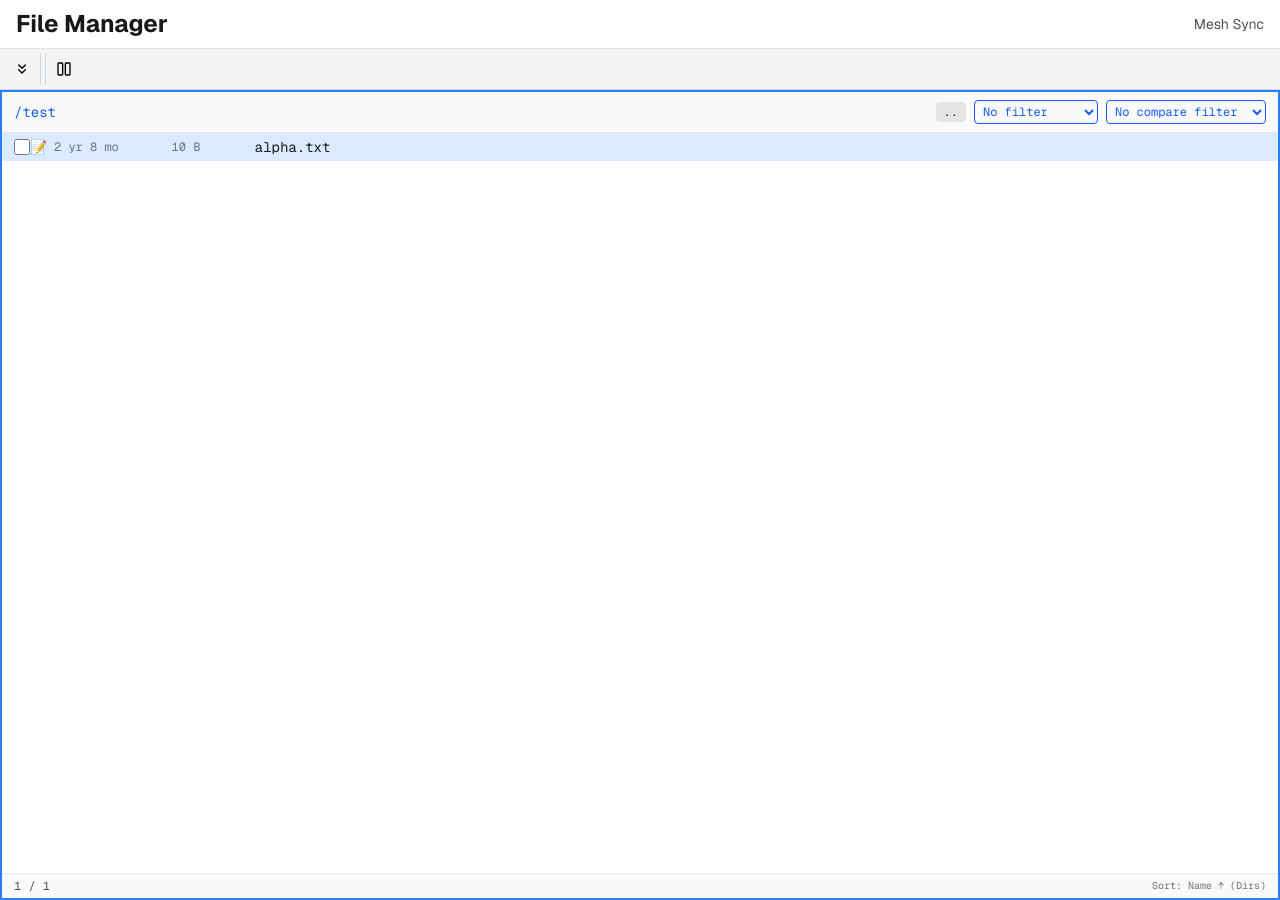
Test case: WorkspaceView file columns [IMPL-WORKSPACE_VIEW] [IMPL-FILE_COLUMN_CONFIG] › view.columns opens dialog and apply reorders file column cells
Click the button with test id "toolbar-view.columns". click: (64, 69)
box: [50,57,78,81]
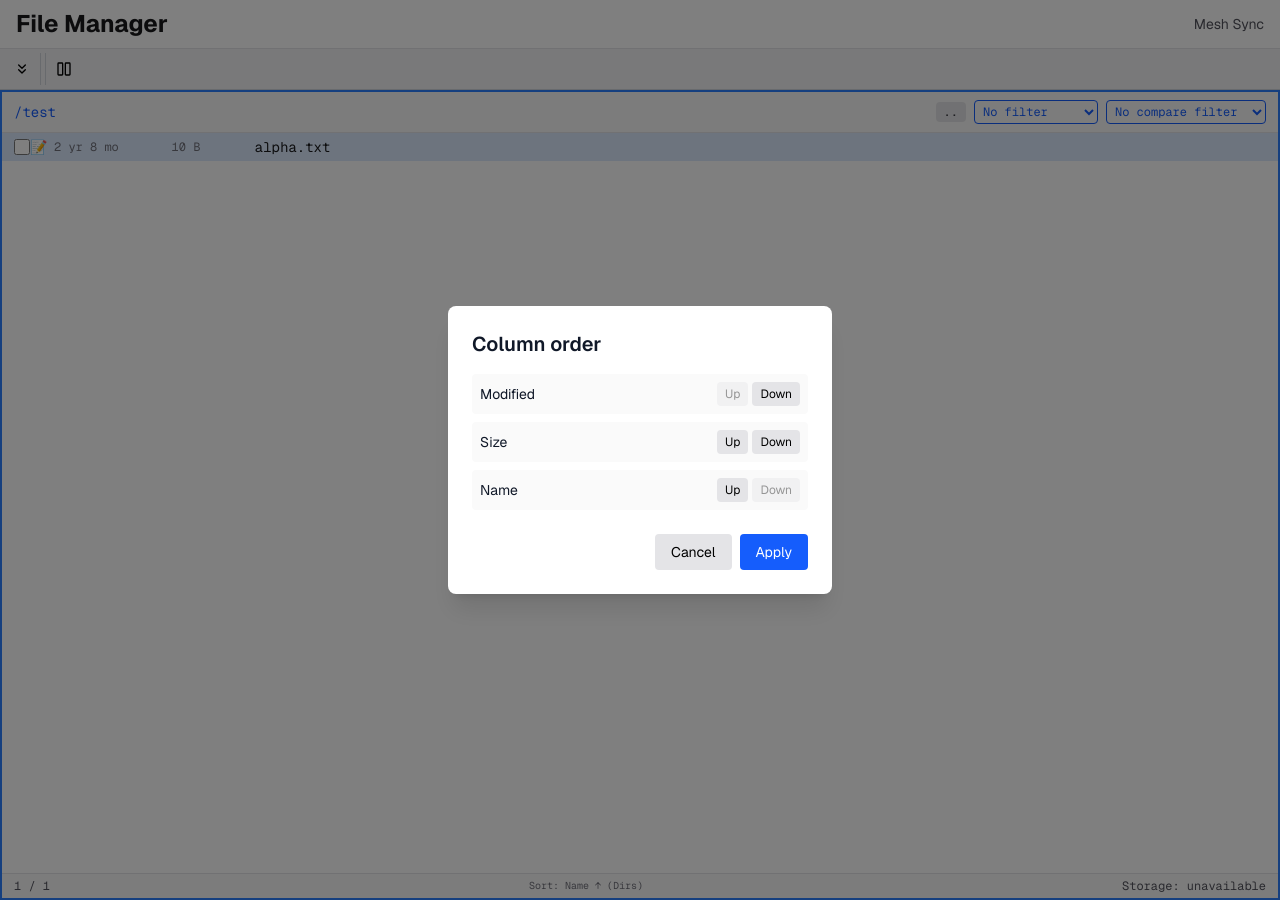
Result: the dialog with test id "column-order-dialog" is shown at [448,306,832,594]
Click the button with test id "column-order-down-mtime". click: (776, 394)
box: [752,382,800,406]
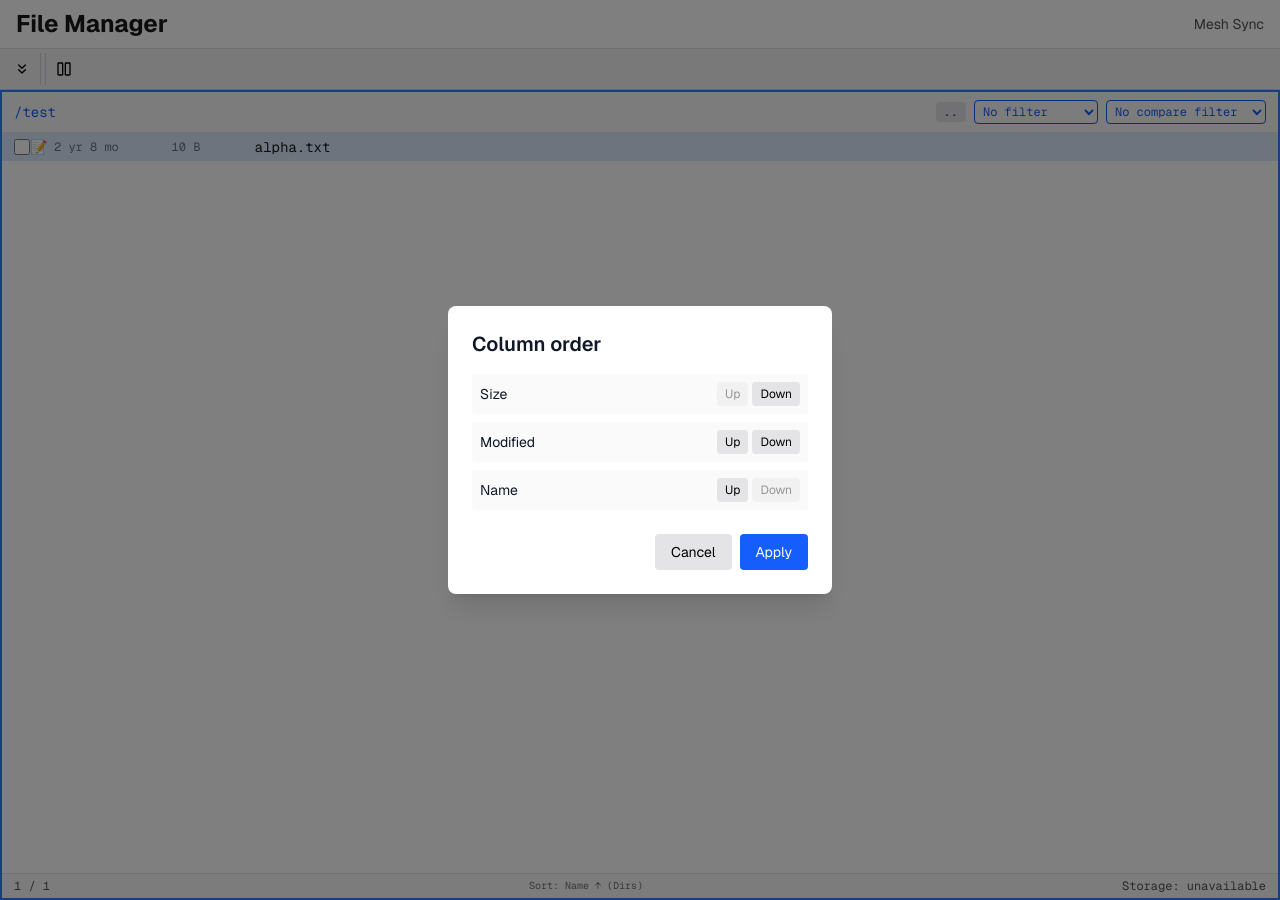
Click the button with test id "column-order-apply". click: (774, 552)
box: [740,534,808,570]
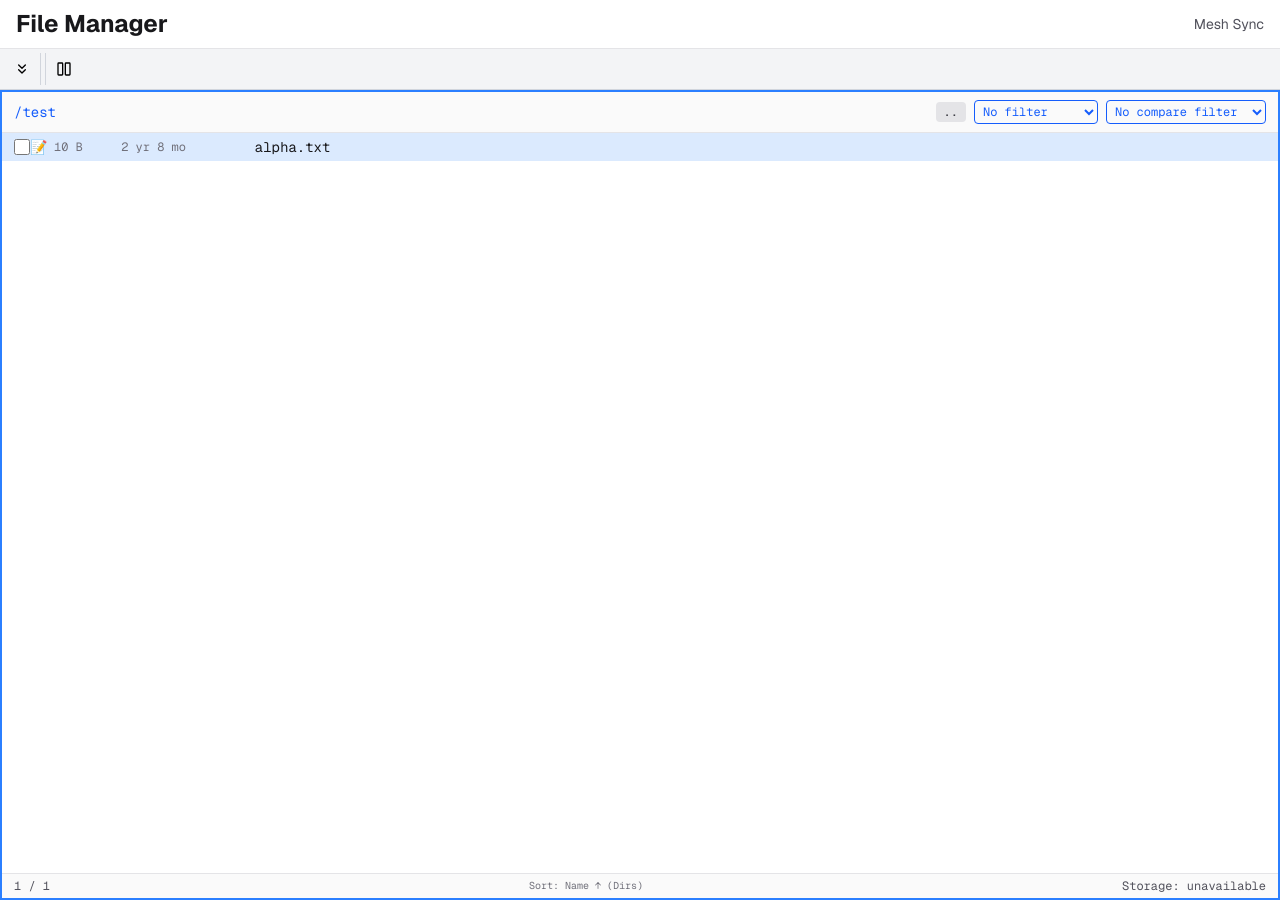
Result: the dialog with test id "column-order-dialog" is gone
